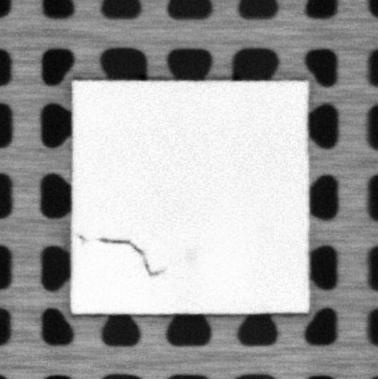DIE_INK: (78, 233, 166, 276)
